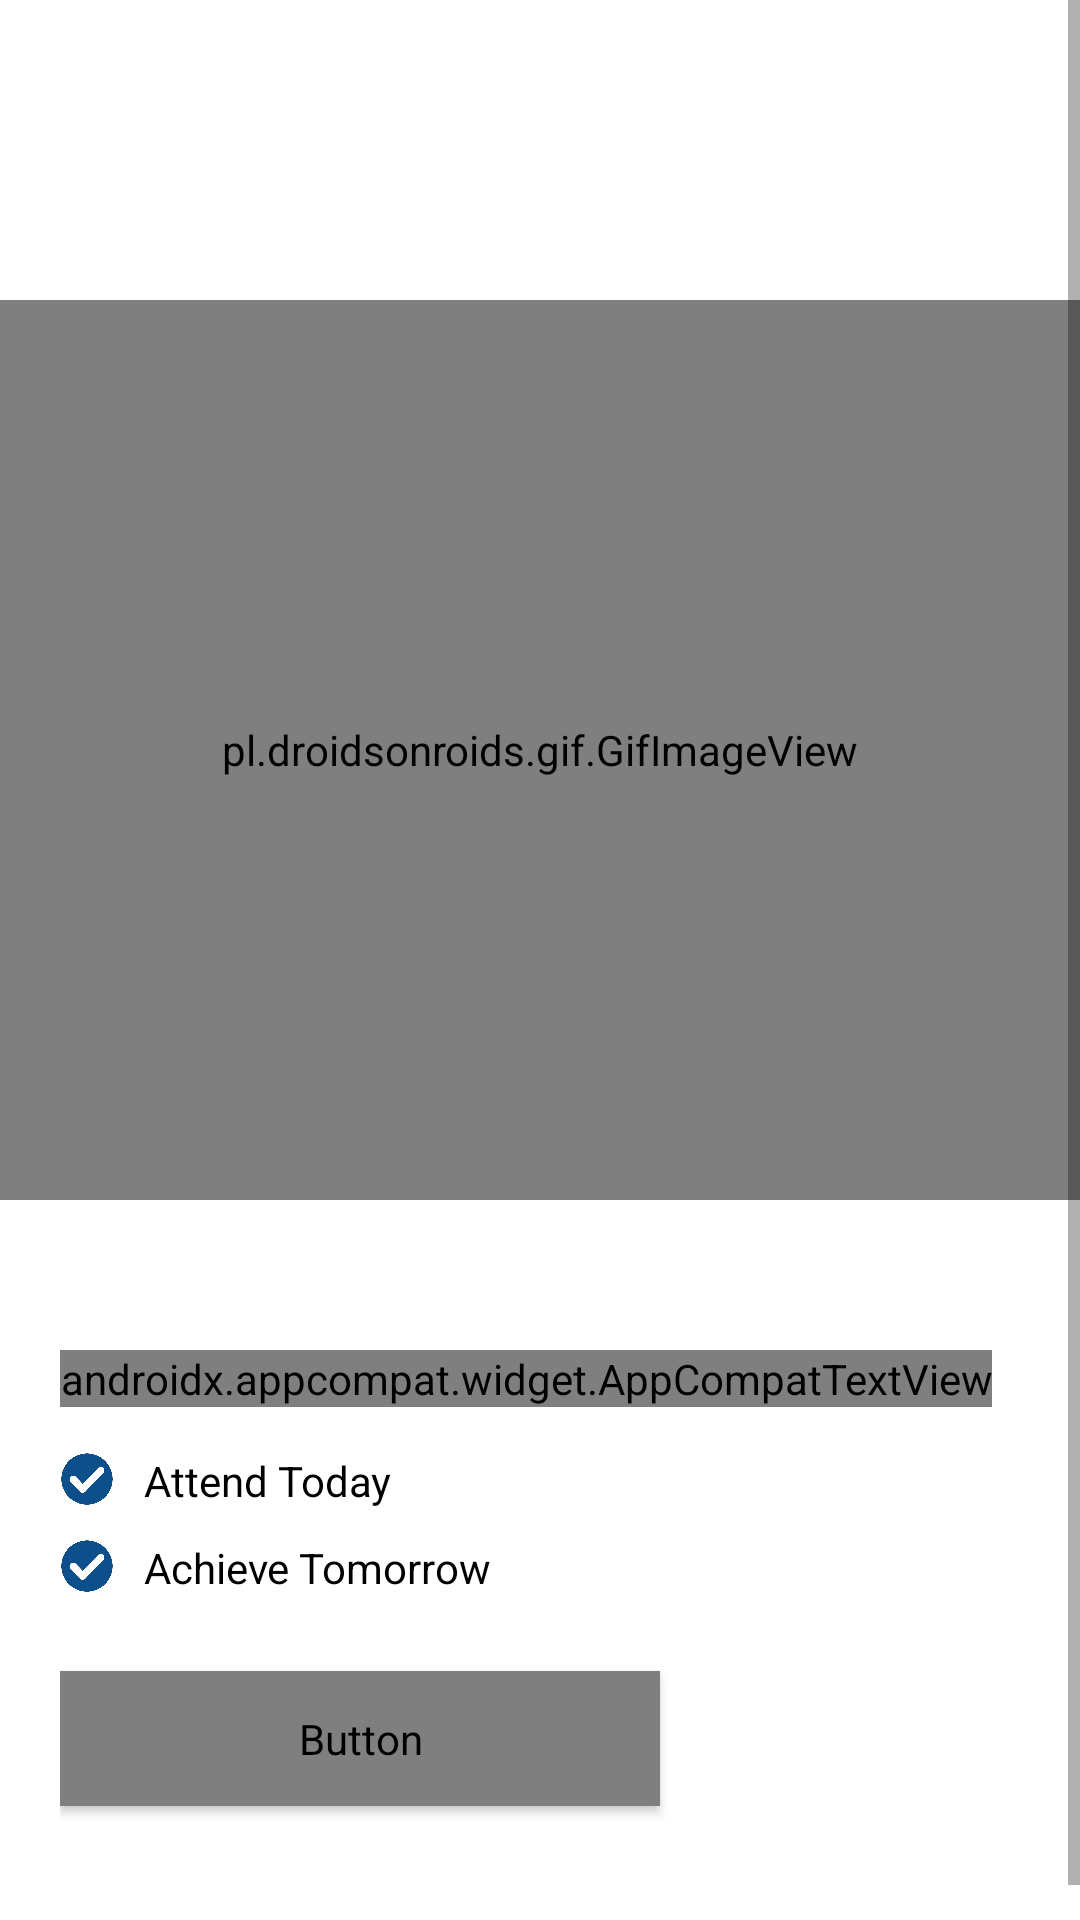

Icon bounding boxes for this 1080px x 1920px phone screenshot, format (x1, y1, x2, y2):
tick: (61, 1453, 113, 1505), (61, 1540, 113, 1592)
